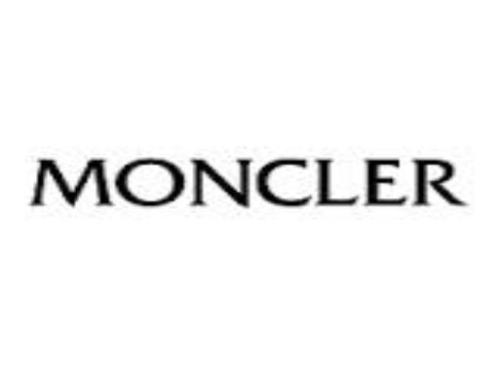MONCLER: (25, 153, 469, 211)
